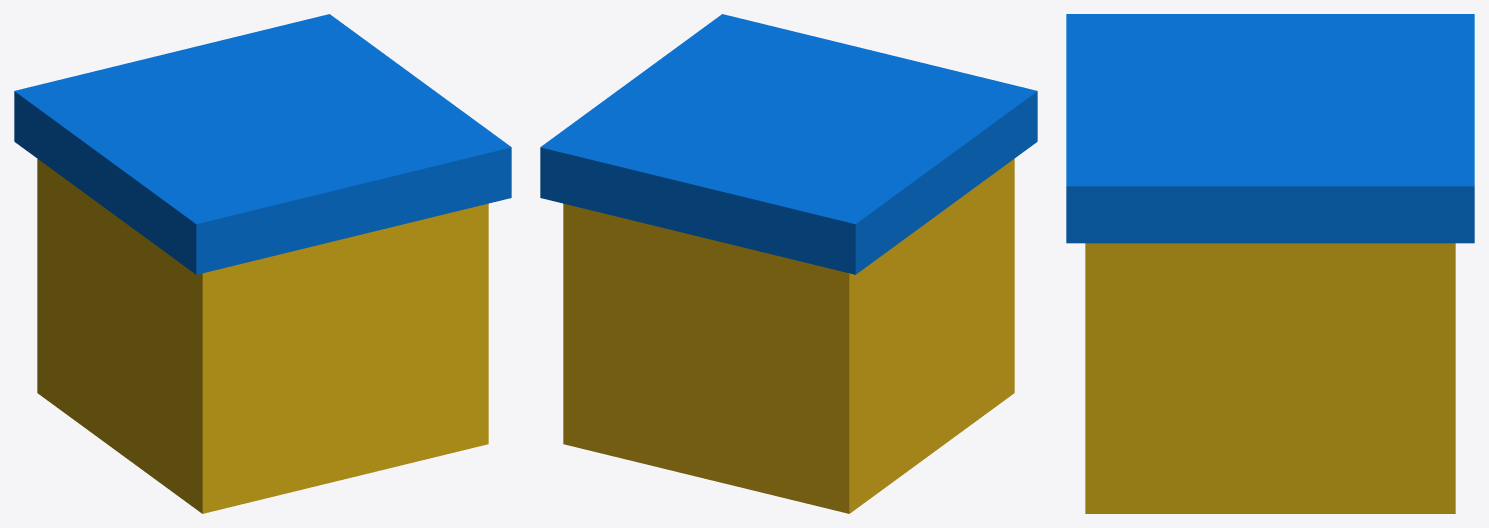
3 views of the same model, side by side, from view 1: azimuth 30°, elevation 25°; view 2: azimuth 150°, elevation 25°; view 3: azimuth 270°, elevation 25° (orthographic). The views are drawn at different scales.
Parts seen in each view (by area): view 1: Box; view 2: Box; view 3: Box.
Part boxes in pixels (x1=…): Box: x1=14, y1=14, x2=511, y2=513; Box: x1=540, y1=14, x2=1037, y2=513; Box: x1=1066, y1=14, x2=1474, y2=513.
Bounding box in the file's own units: 79.75 × 72.35 × 79.75.
